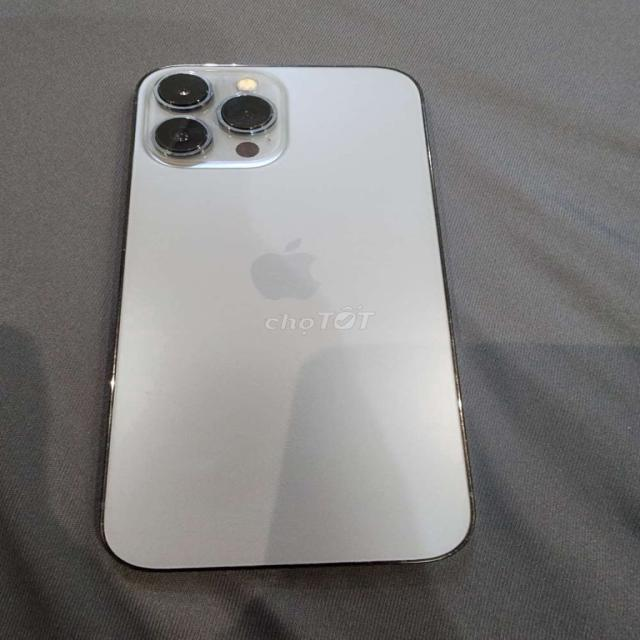gen_12_13: (92, 56, 477, 572)
